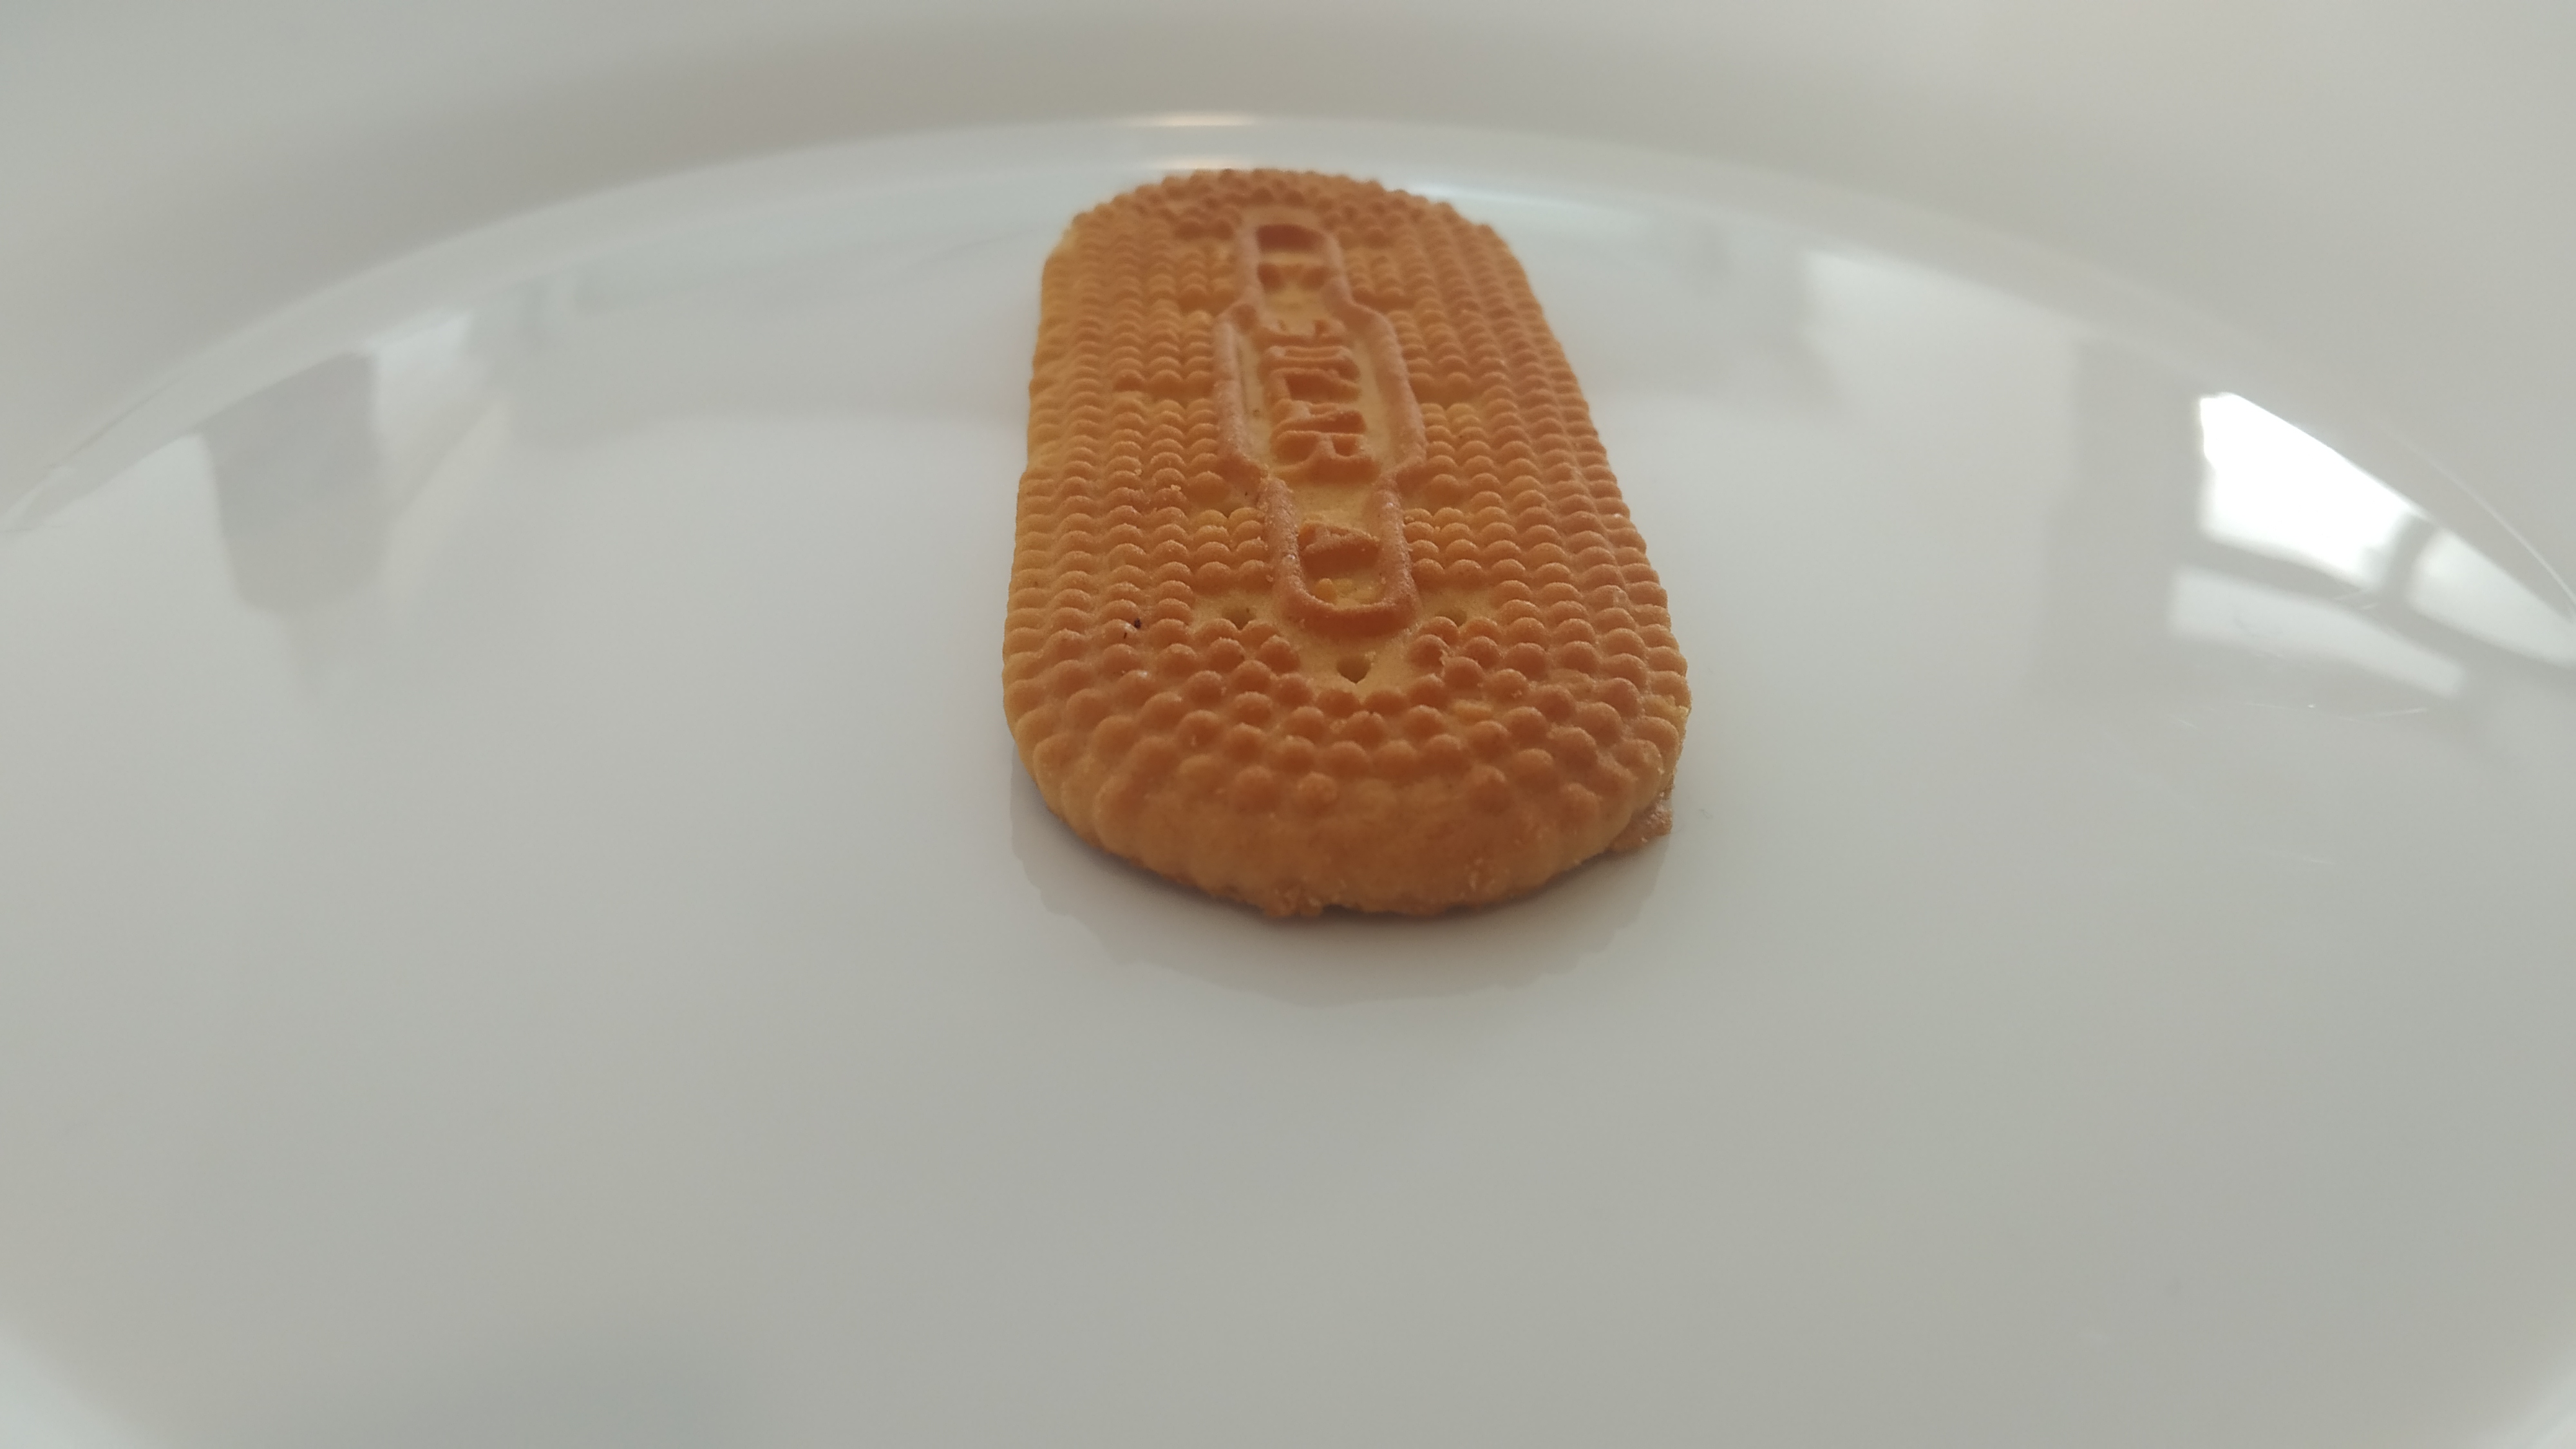solar: (1001, 166, 1693, 918)
